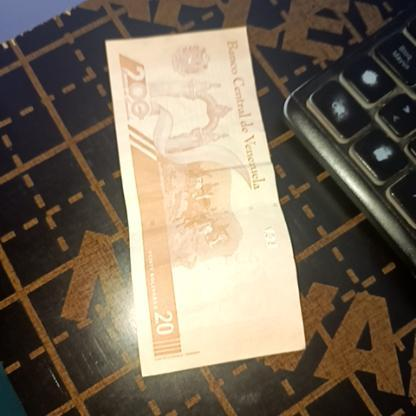vef_back: (103, 26, 307, 376)
